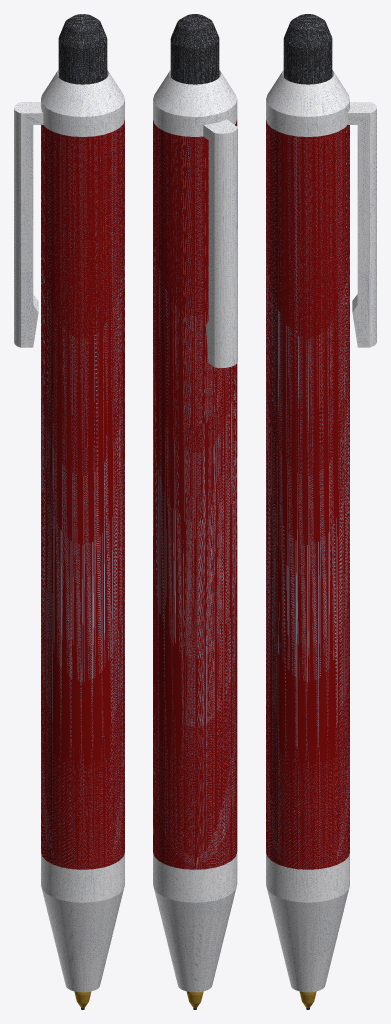
File: pen.dae
3 renders of one model, left to right at view 1: azimuth 90°, elevation 25°; view 2: azimuth 210°, elevation 25°; view 3: azimuth 270°, elevation 25°, orthographic.
Parts seen in each view (by area): view 1: SketchUp (×5); view 2: SketchUp (×5); view 3: SketchUp (×5).
Boxes of the visible parts, x1=… form: SketchUp (×5): x1=14, y1=14, x2=124, y2=992; SketchUp (×5): x1=153, y1=14, x2=237, y2=992; SketchUp (×5): x1=266, y1=14, x2=376, y2=992.
Size of the model in its own units: 65.47 by 86.35 by 850.
